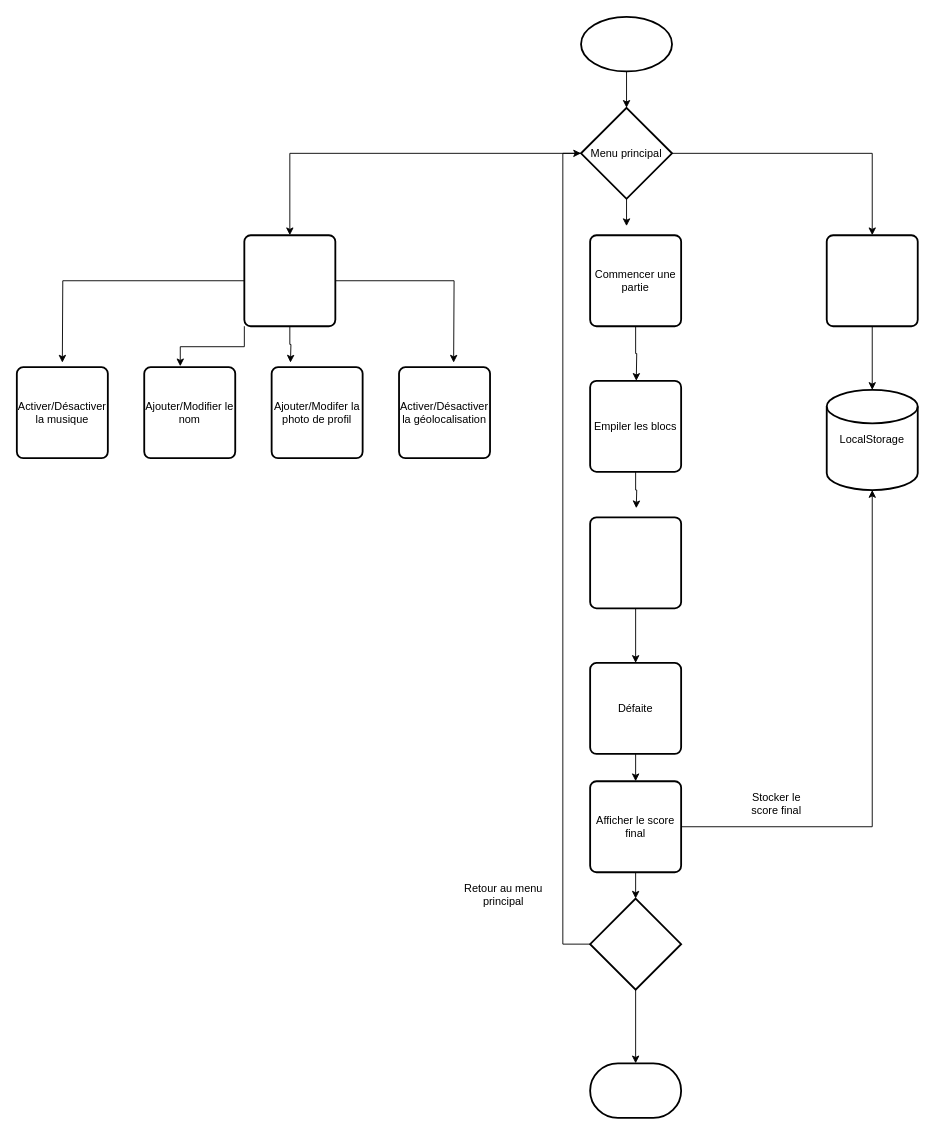
This 934x1134 diagram has some shape labels left out. The shapes that lost their labels are listed below. From the top down, each one's centre as x and y in pixels, then its label:
(626,43): Lancer le jeu
(289,280): Réglages
(871,280): Regarder le classement
(635,562): Mettre à jour le score
(635,1090): Quitter
